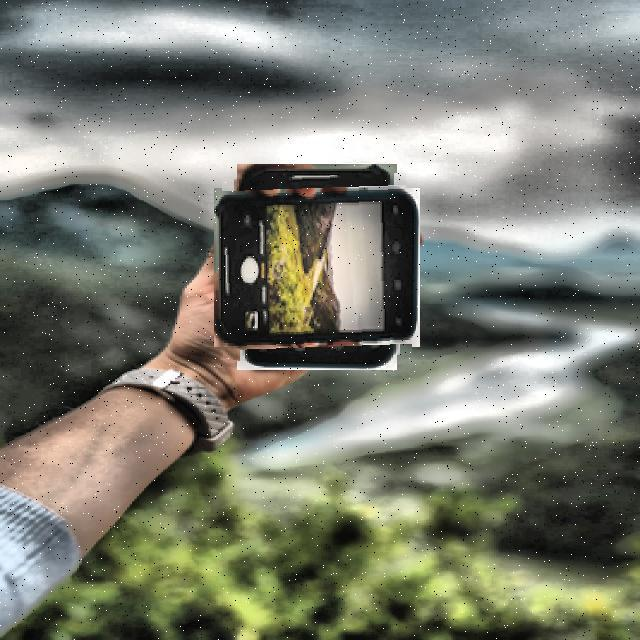Phone: (224, 174, 410, 360)
